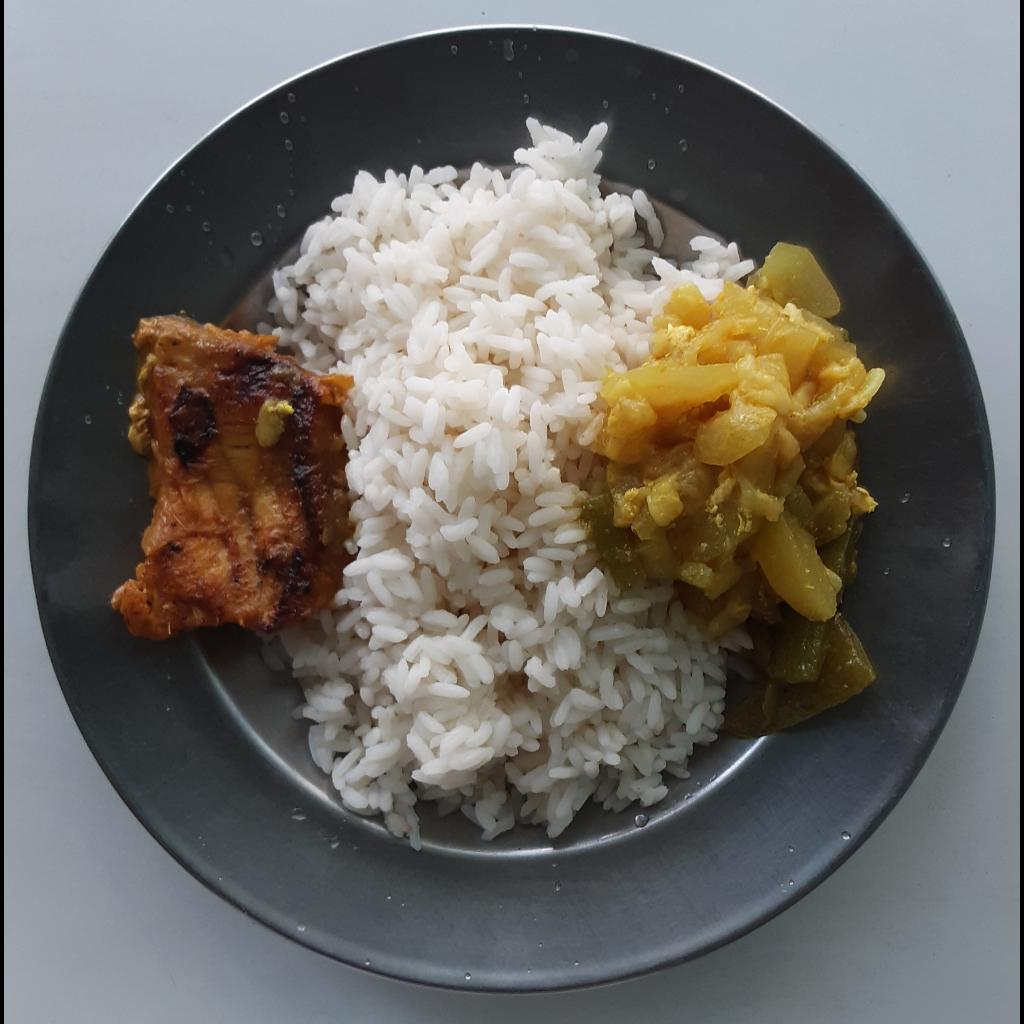fish: (109, 316, 355, 650)
lau: (580, 241, 887, 743)
rice: (255, 113, 756, 846)
